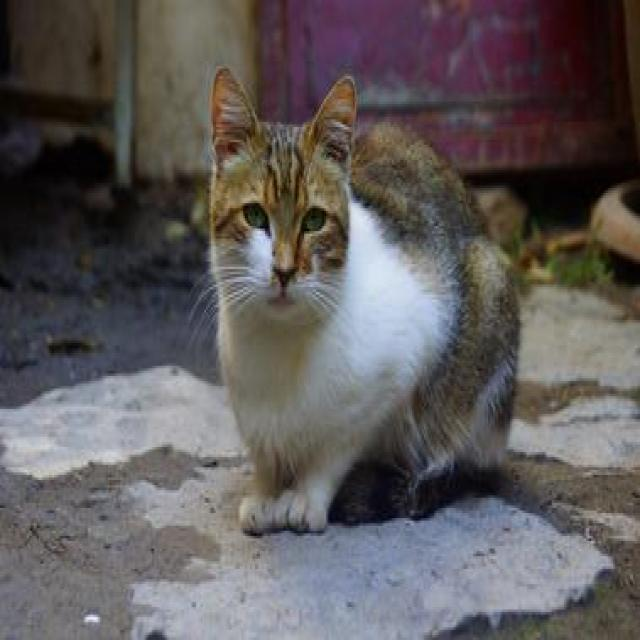cat: (210, 70, 520, 533)
